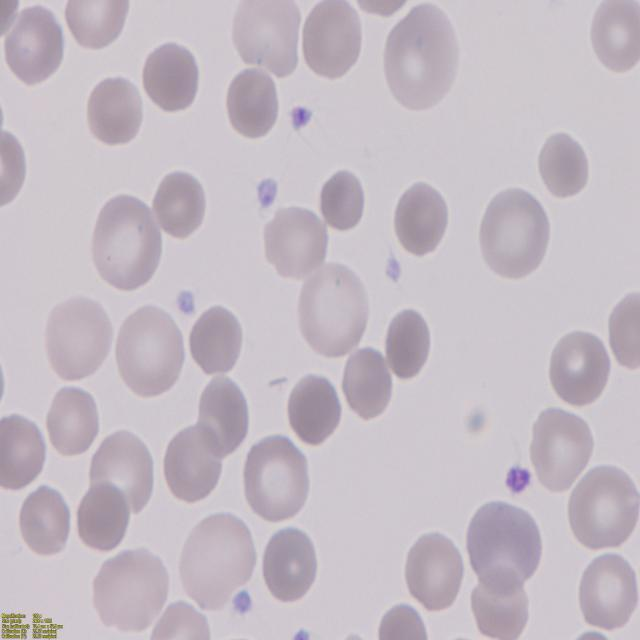Platelets: (504, 464, 532, 499), (386, 250, 409, 286)
RBC: (175, 506, 258, 614), (85, 188, 163, 296), (382, 5, 458, 113), (110, 301, 188, 402), (293, 259, 369, 362), (474, 186, 552, 284), (88, 541, 170, 633), (239, 432, 314, 528), (565, 460, 640, 555), (44, 288, 117, 382), (526, 402, 596, 496), (402, 528, 467, 620), (263, 198, 334, 280), (160, 418, 226, 506), (228, 0, 302, 76), (578, 544, 640, 634), (544, 326, 612, 407), (297, 0, 363, 80), (258, 518, 320, 602), (6, 1, 68, 85), (192, 373, 255, 454), (469, 564, 532, 640), (86, 73, 146, 150), (43, 383, 101, 462), (338, 346, 398, 420), (14, 484, 72, 556), (586, 0, 640, 74), (0, 412, 48, 494), (151, 170, 207, 240), (64, 0, 132, 54), (606, 283, 640, 378), (146, 601, 216, 640), (0, 120, 27, 209), (371, 602, 434, 640)
Spherocyte: (392, 176, 454, 256), (281, 366, 343, 444), (139, 40, 204, 114), (224, 64, 284, 141), (74, 478, 134, 555), (188, 302, 248, 378), (534, 128, 596, 200), (382, 305, 434, 382), (316, 166, 368, 236)
WBC: (464, 501, 542, 608)
